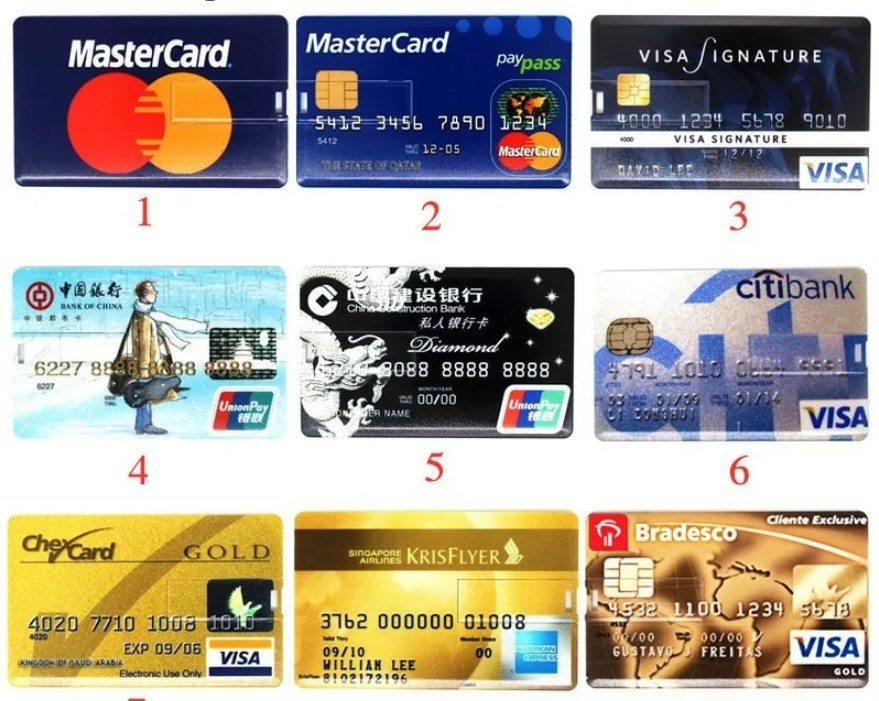card: (293, 509, 578, 691), (585, 511, 870, 690), (591, 14, 871, 191), (5, 512, 284, 687), (296, 14, 573, 190), (592, 267, 869, 443), (11, 265, 288, 438), (299, 266, 574, 438), (13, 17, 288, 187)
